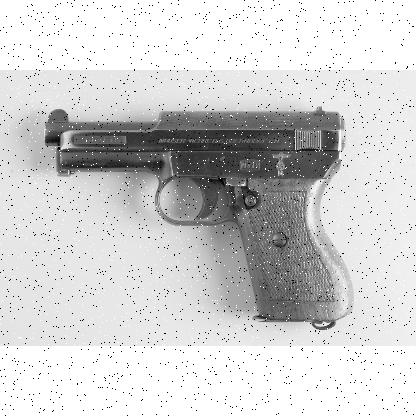gun: (44, 105, 354, 330)
